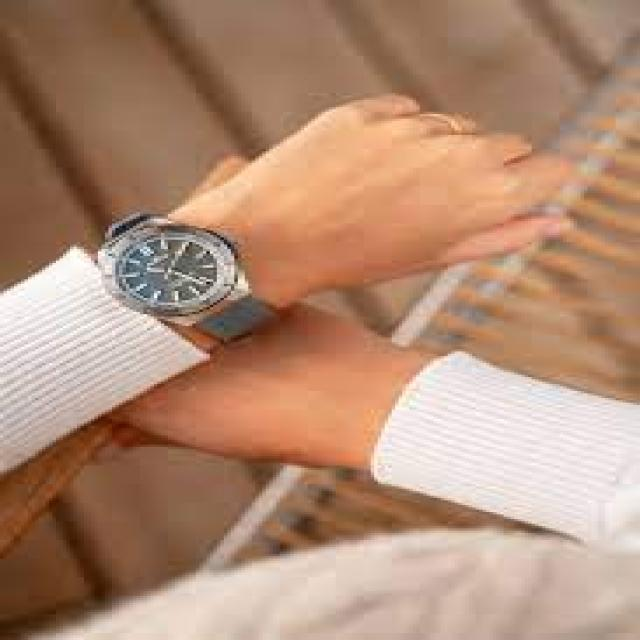Watch: (93, 215, 289, 346)
